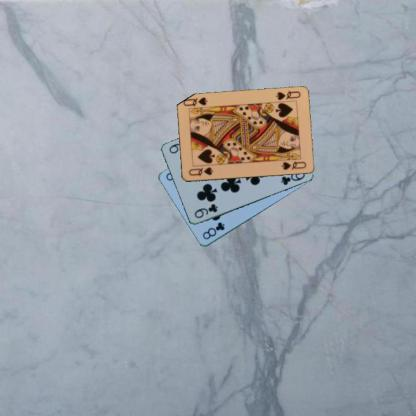8c: (200, 219, 226, 241)
9c: (192, 201, 219, 220)
Qs: (273, 89, 302, 101), (186, 165, 214, 177)
